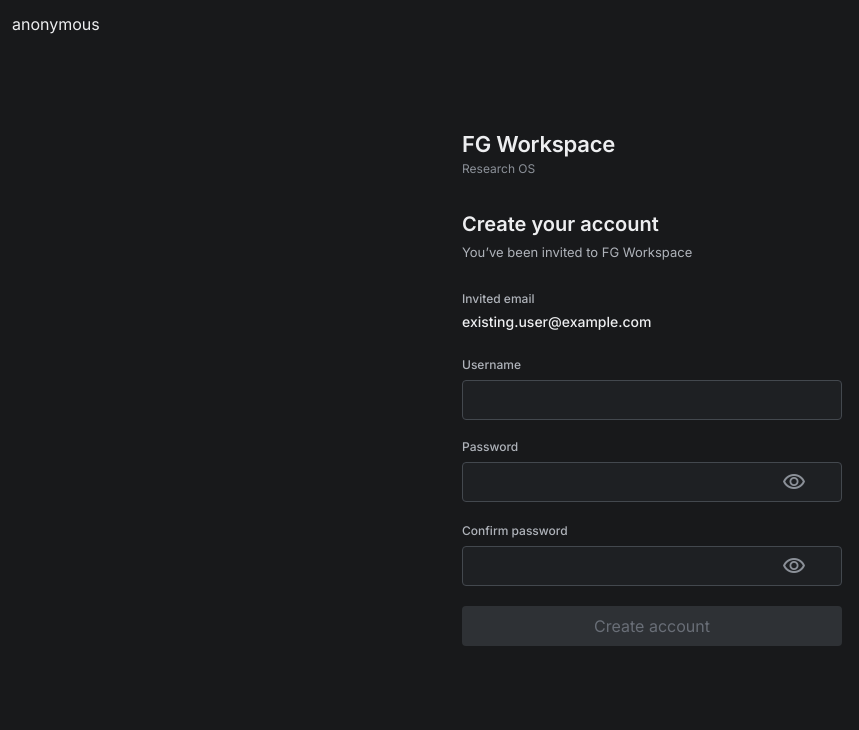
Test: RegistrationPage › maps a backend username error to the username field
The width and height of the screenshot is (859, 730).
Type "newbie" into the field labelled "Username". click: (652, 400)
box: [462,380,842,420]
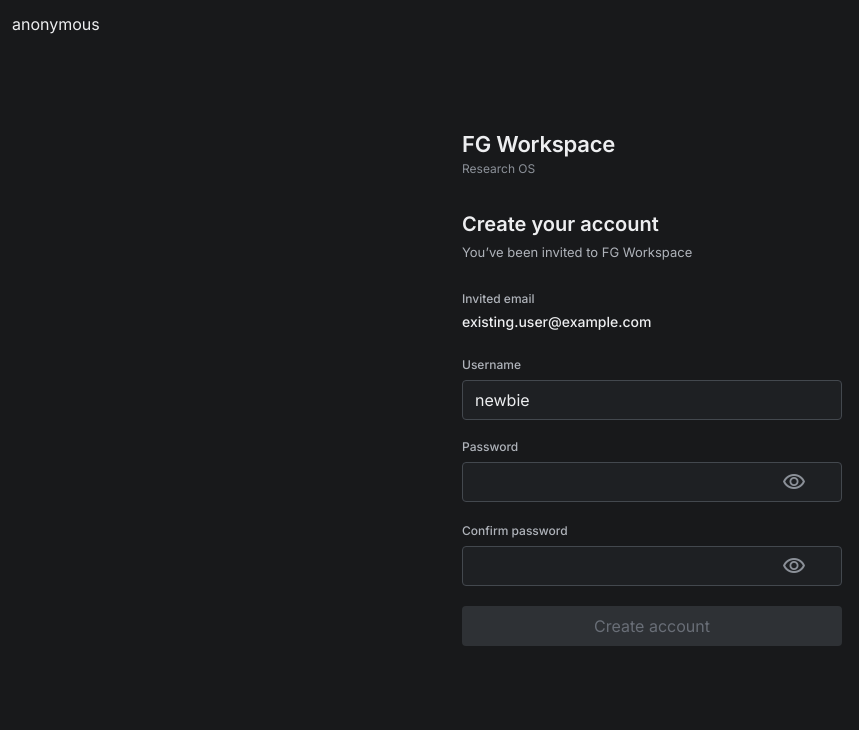
Type "Passw0rd!x" into the password field labelled "Password". click: (652, 482)
box: [462,462,842,502]
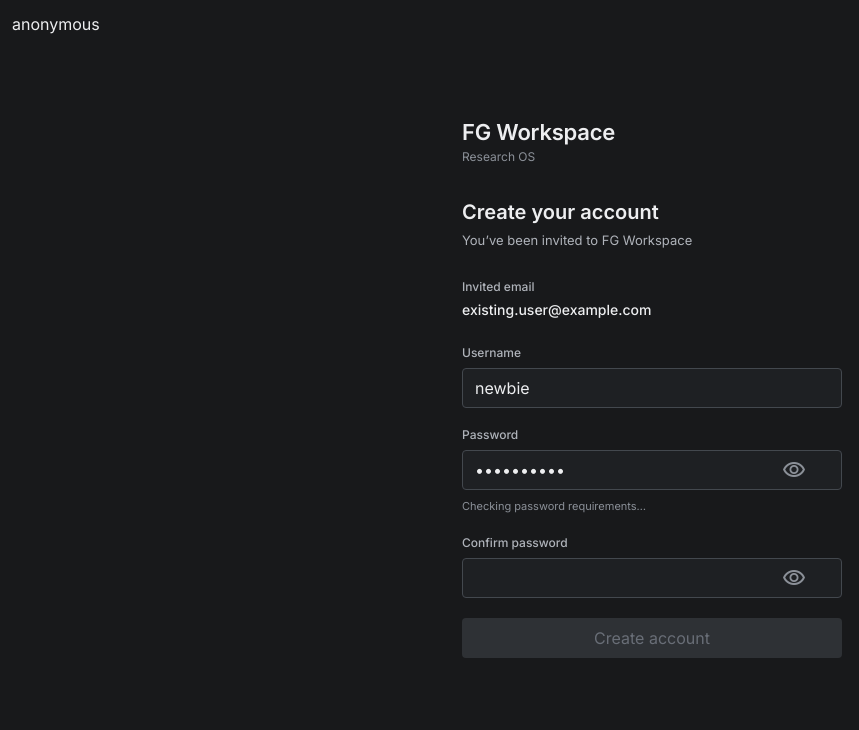
Type "Passw0rd!x" into the password field labelled "Confirm password". click: (652, 578)
box: [462,558,842,598]
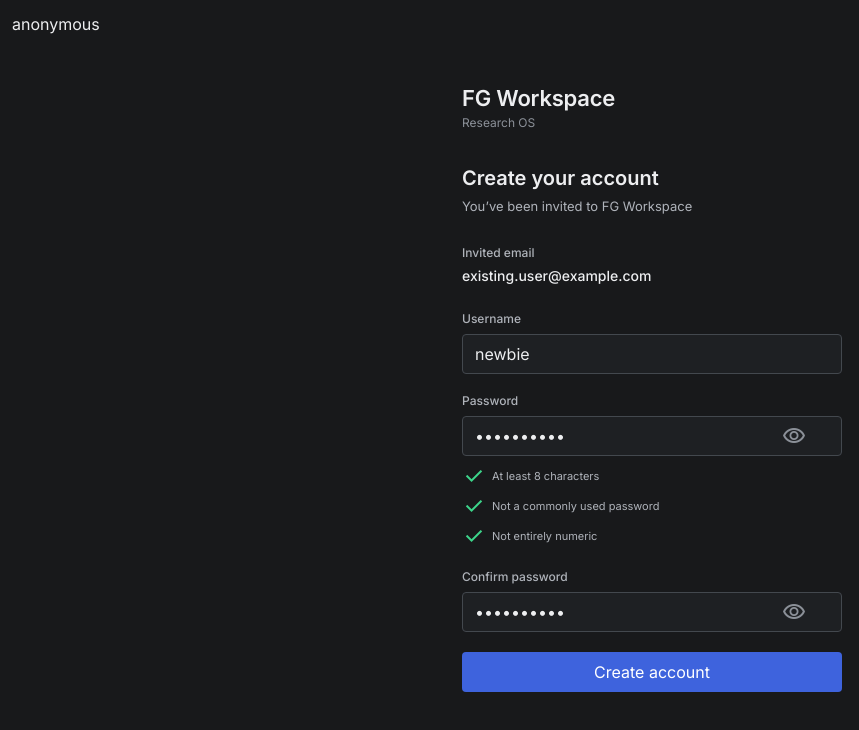
Expected: the button "Create account" is enabled
Click the button "Create account". click: (652, 672)
box: [462,652,842,692]
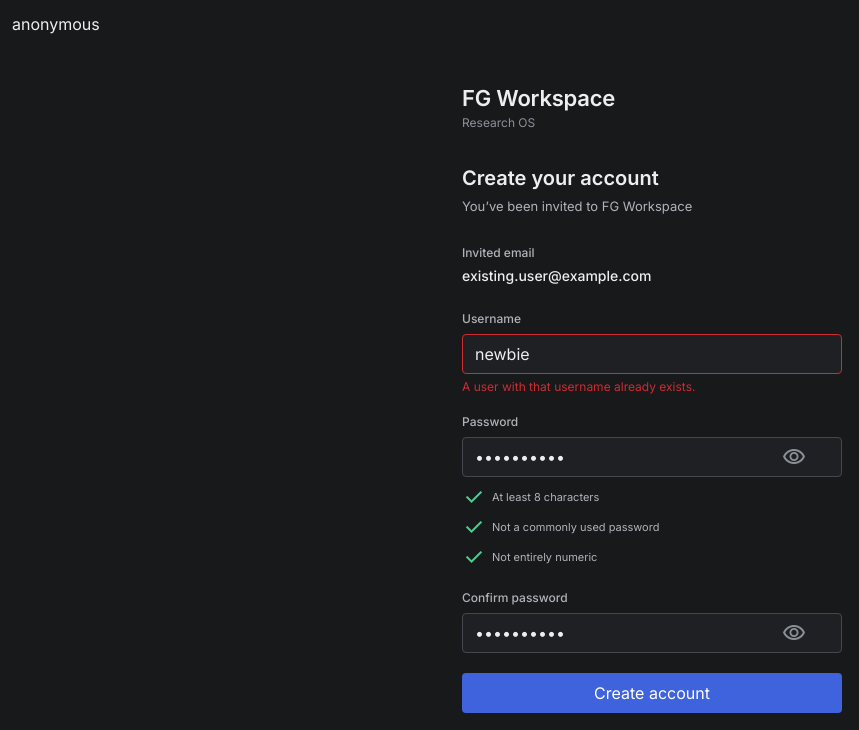
Expected: the message reads "A user with that username already exists.", [462,379,696,394]
